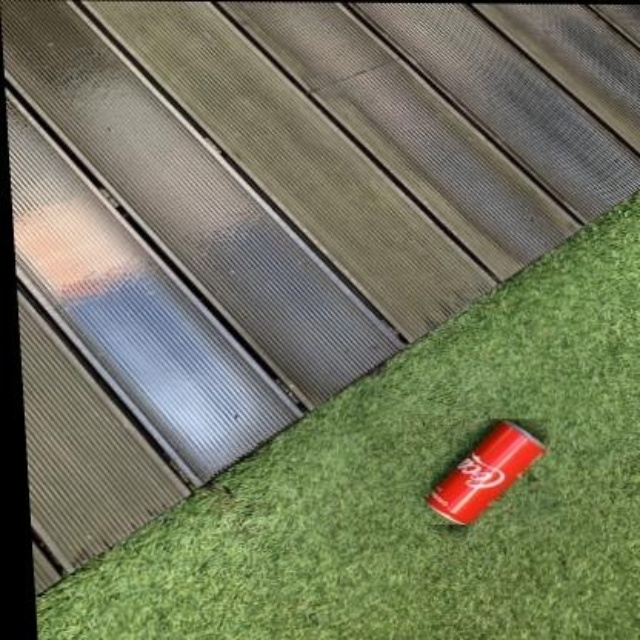trash: (426, 422, 543, 523)
